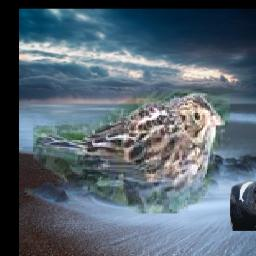Crow: (230, 181, 256, 232)
Sparrow: (32, 90, 229, 214)
